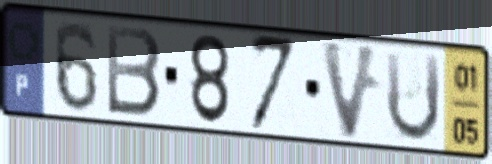6: (51, 18, 101, 116)
7: (247, 30, 300, 135)
8: (187, 31, 232, 127)
B: (103, 21, 164, 121)
U: (382, 48, 443, 146)
V: (317, 36, 383, 143)
